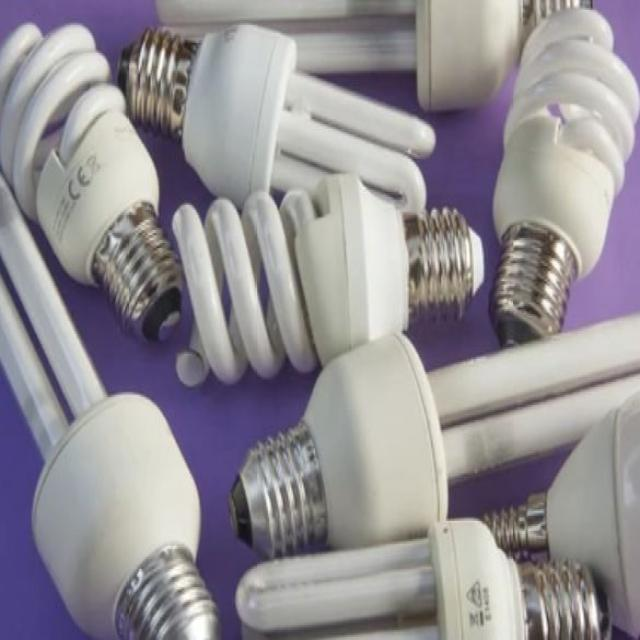electronic: (0, 2, 639, 638), (0, 164, 221, 638), (0, 20, 183, 344), (488, 5, 639, 347), (226, 329, 448, 559), (29, 389, 220, 638)
